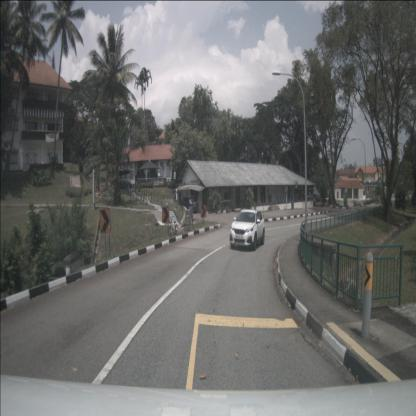vehicle-bicycle: (167, 216, 179, 238)
vehicle-car: (230, 209, 265, 251), (178, 196, 198, 213), (304, 196, 316, 206), (311, 194, 323, 203)
